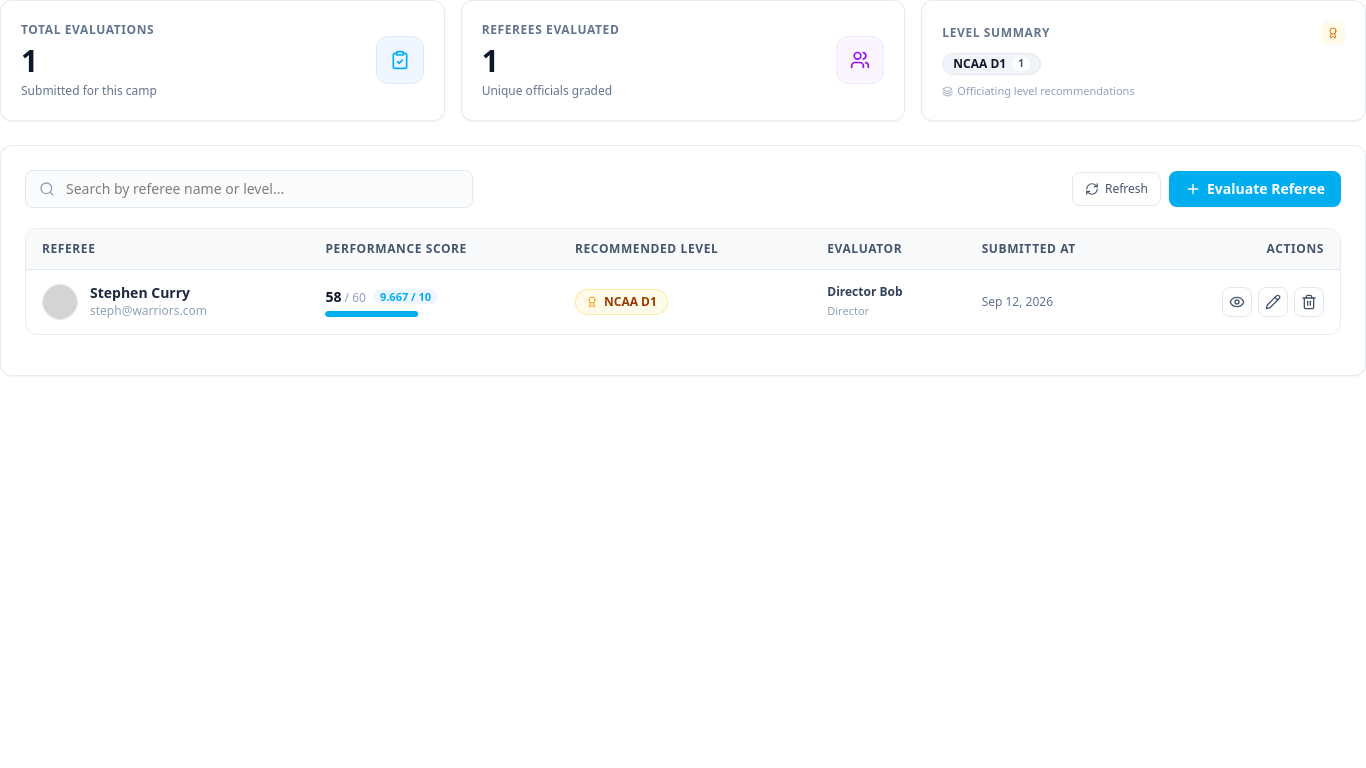
Test: EvaluationsList Component › filters evaluations by search keyword
The width and height of the screenshot is (1366, 768).
Step 1. Type "NonExistent" into the field with placeholder "Search by referee name or level..." → coordinates (249, 188), box [25,170,473,208]
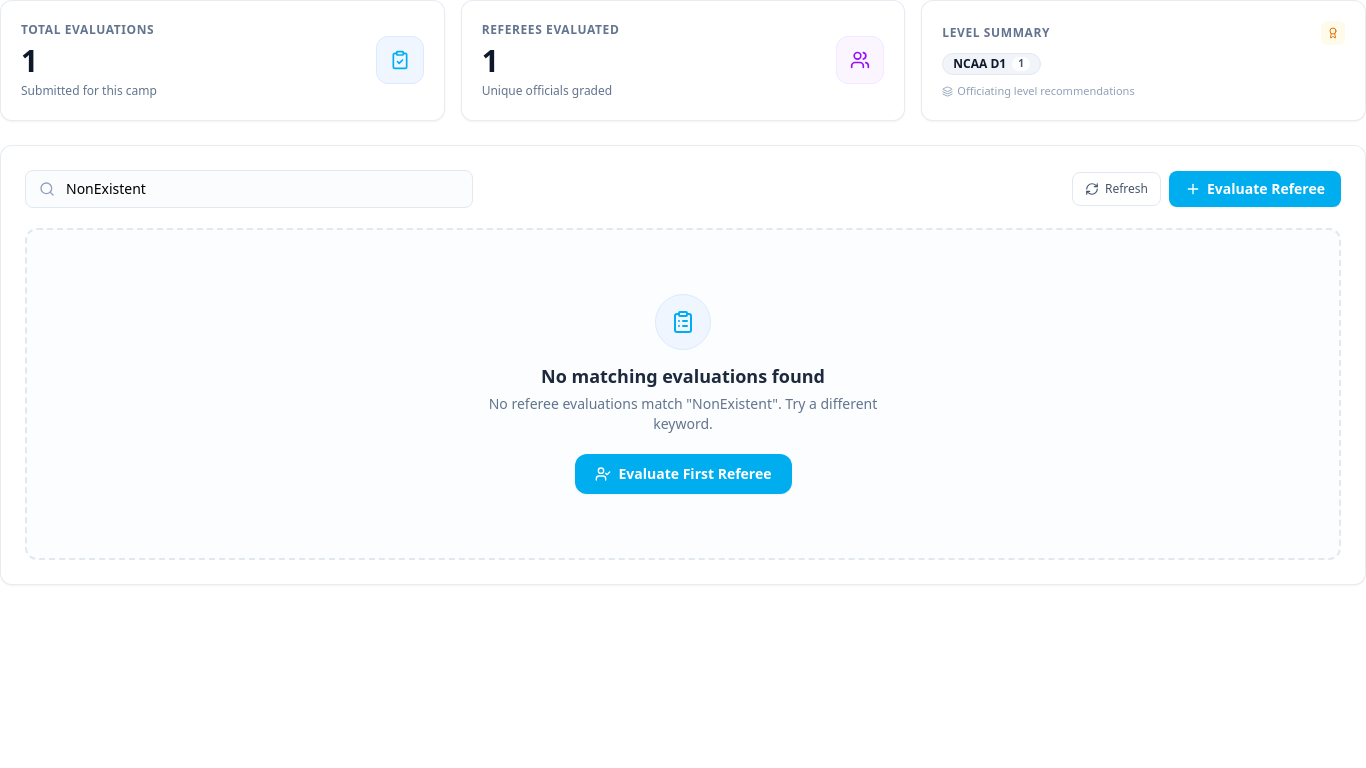
Expected: the heading "No matching evaluations found" is shown, [541,364,825,388]
